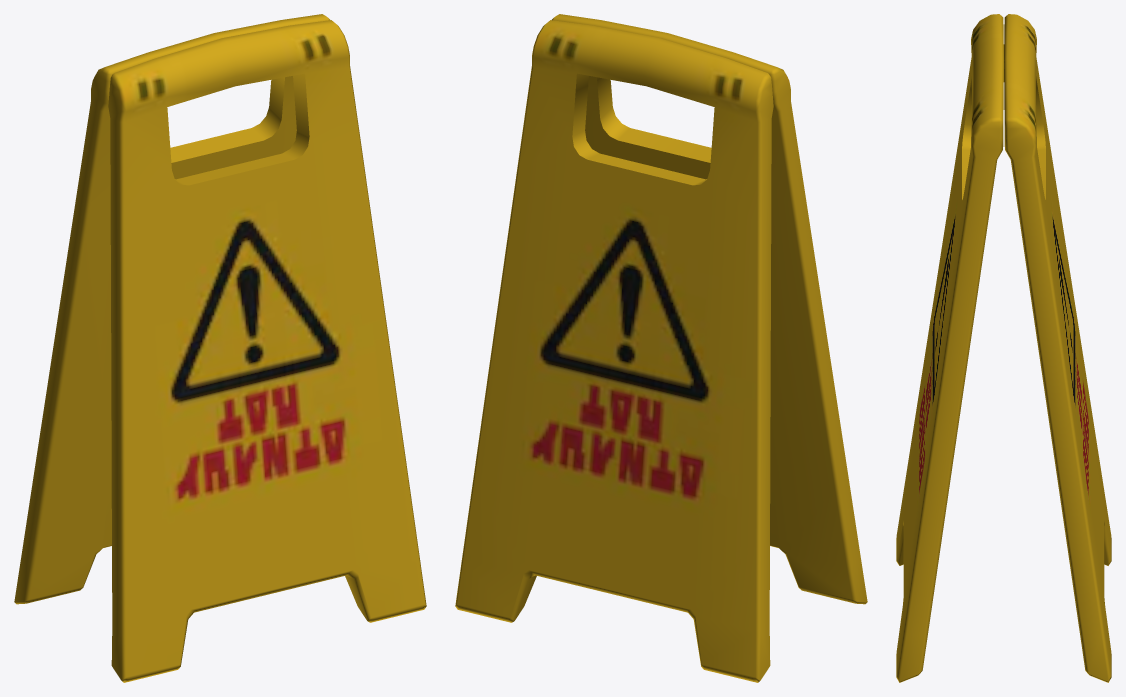
3 views of the same model, side by side, from view 1: azimuth 30°, elevation 25°; view 2: azimuth 150°, elevation 25°; view 3: azimuth 270°, elevation 25° (orthographic). The views are drawn at different scales.
Size of the model in its own units: 5.03 by 8.98 by 3.16.
Materials: 1 (1 with a texture image).
